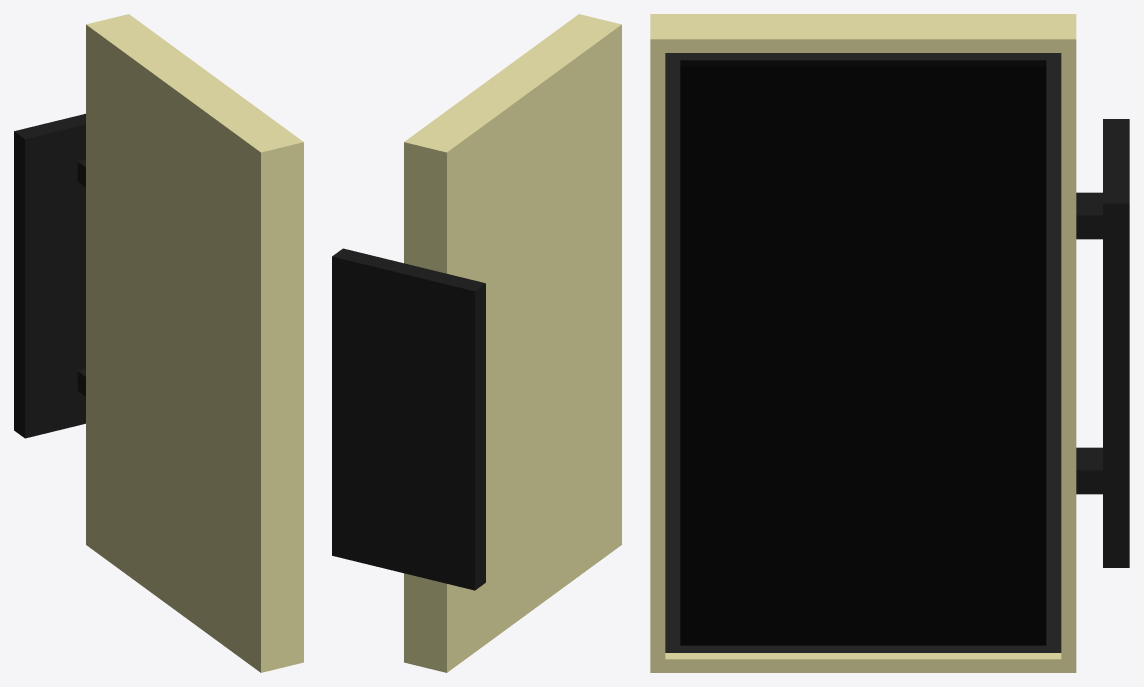
File: nil_link_mesh.dae
3 views of the same model, side by side, from view 1: azimuth 30°, elevation 25°; view 2: azimuth 150°, elevation 25°; view 3: azimuth 270°, elevation 25° (orthographic). The views are drawn at different scales.
Parts seen in each view (by area): view 1: nil_link (×3); view 2: nil_link (×3); view 3: nil_link (×6).
Boxes of the visible parts, bbox=[...] form: nil_link (×3): bbox=[14, 14, 303, 672]; nil_link (×3): bbox=[332, 14, 621, 672]; nil_link (×6): bbox=[650, 14, 1129, 672].
Size of the model in its own units: 0.3 by 1.04 by 0.7155.
